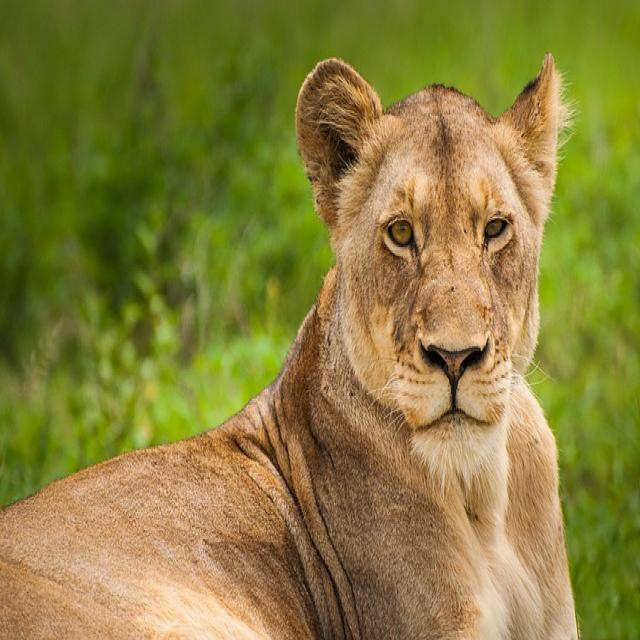Carnivorous: (0, 54, 581, 640)
